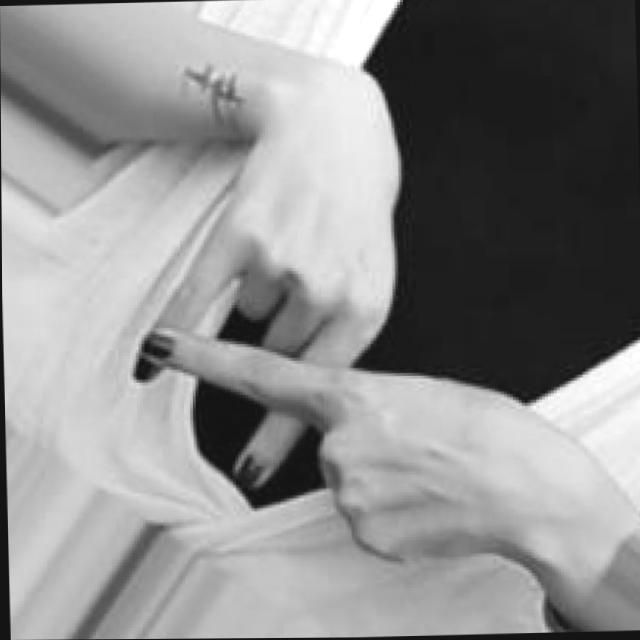H: (118, 49, 550, 639)
